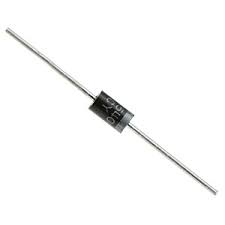diode: (59, 71, 159, 149)
